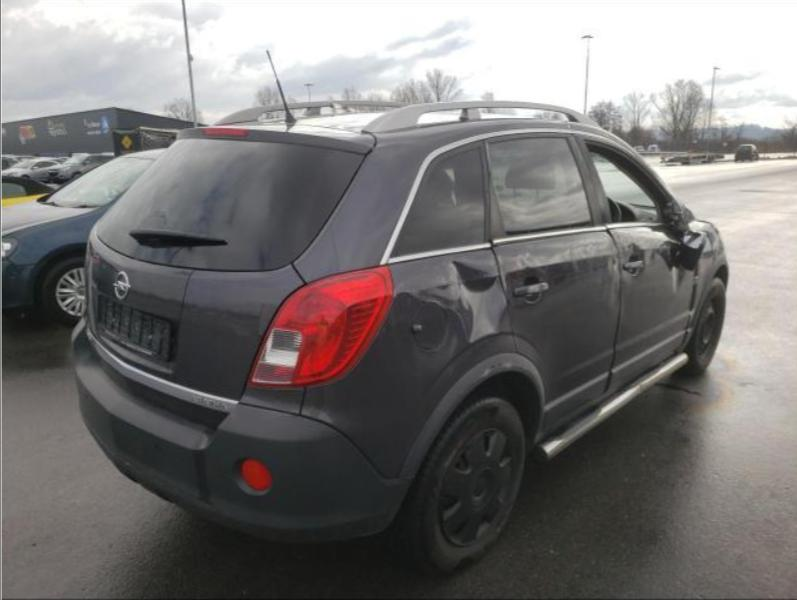Broken part: (667, 201, 706, 270)
Dent: (404, 258, 509, 347), (655, 240, 682, 296), (619, 240, 646, 278)
Missing part: (586, 136, 673, 220), (99, 297, 164, 353)
